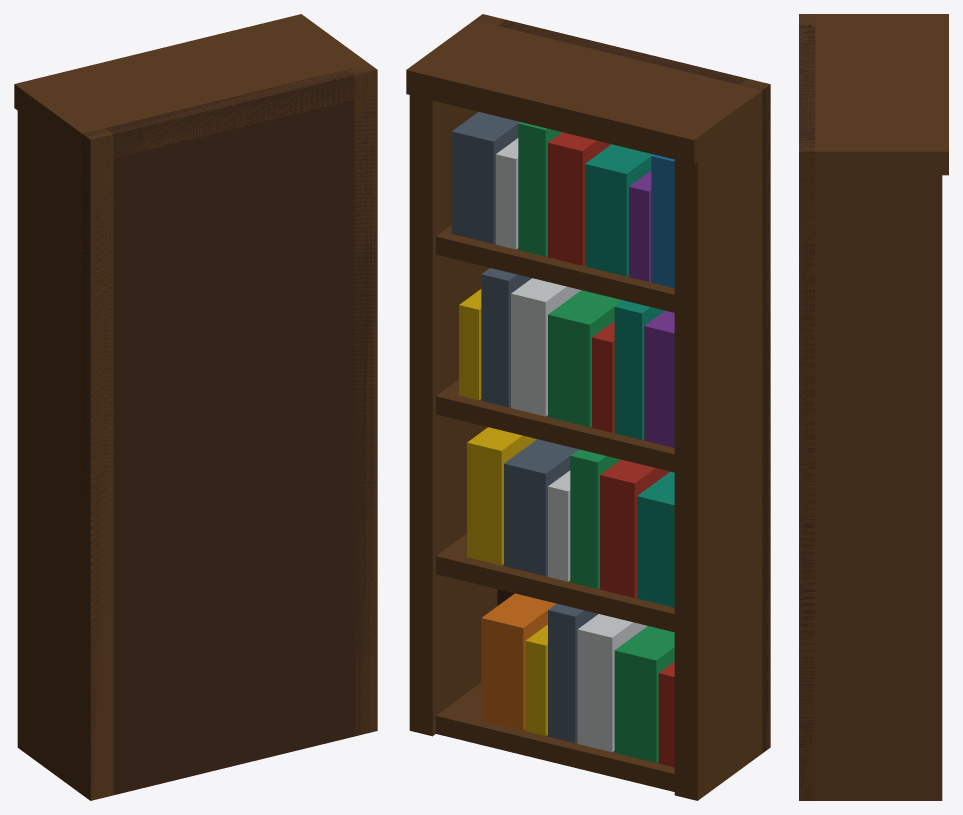
File: th-bookcase.glb
3 views of the same model, side by side, from view 1: azimuth 30°, elevation 25°; view 2: azimuth 150°, elevation 25°; view 3: azimuth 270°, elevation 25° (orthographic). The views are drawn at different scales.
Parts seen in each view (by area): view 1: box-prop; view 2: box-prop; view 3: box-prop.
Part boxes in pixels (x1=…): box-prop: x1=14, y1=14, x2=377, y2=800; box-prop: x1=406, y1=14, x2=770, y2=800; box-prop: x1=799, y1=14, x2=948, y2=800.
Size of the model in its own units: 1 by 2.2 by 0.46.
